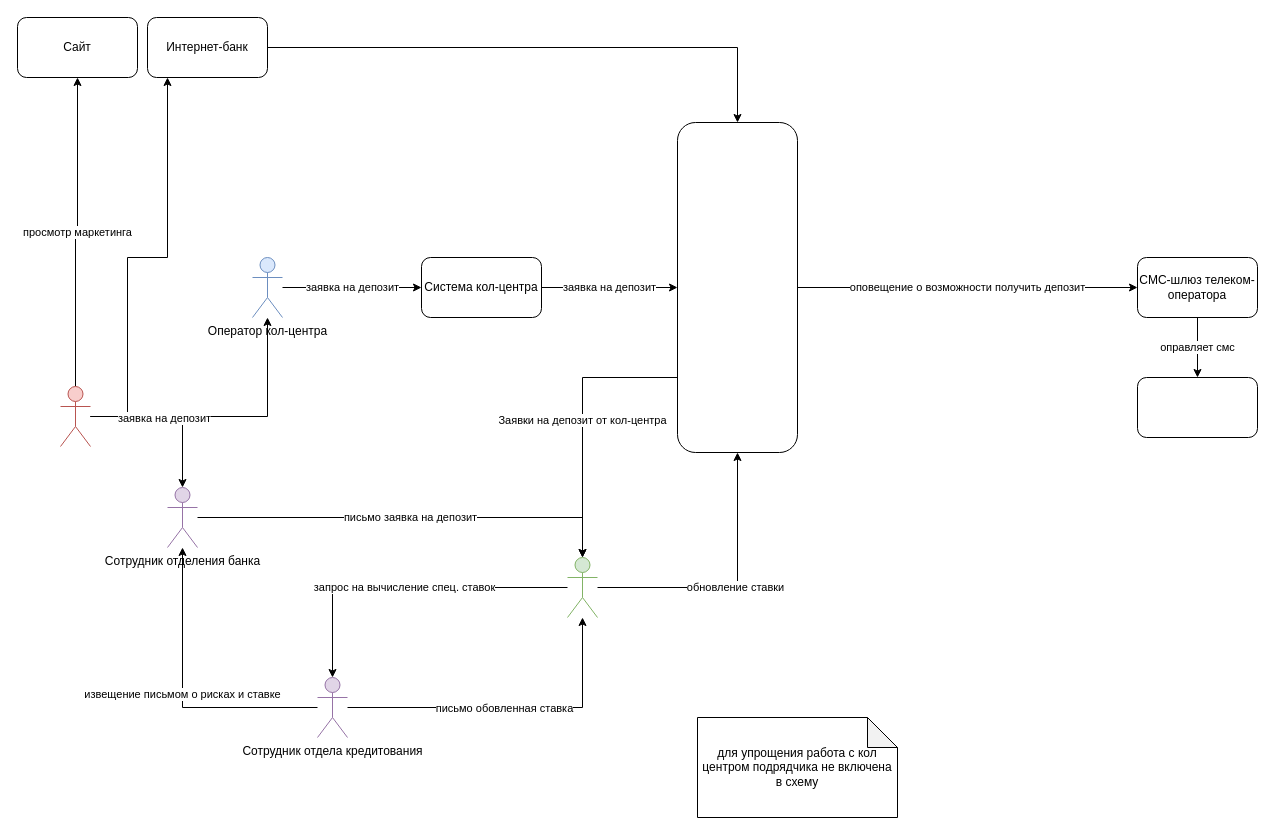
The diagram is 1275 pixels wide and 835 high, and some of its shapes have lost their labels. Each missing label, with the centre of its shape:
"АБС" belongs at pixel 737 287.
"Клиент банка" belongs at pixel 75 416.
"Сотрудник бэк офиса" belongs at pixel 582 587.
"Телеком-оператор" belongs at pixel 1197 407.
